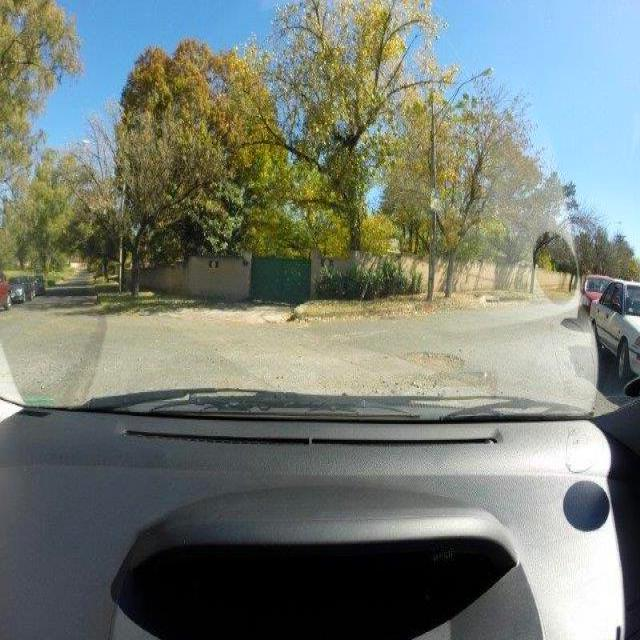lubang: (372, 363, 500, 395), (398, 350, 468, 370)
